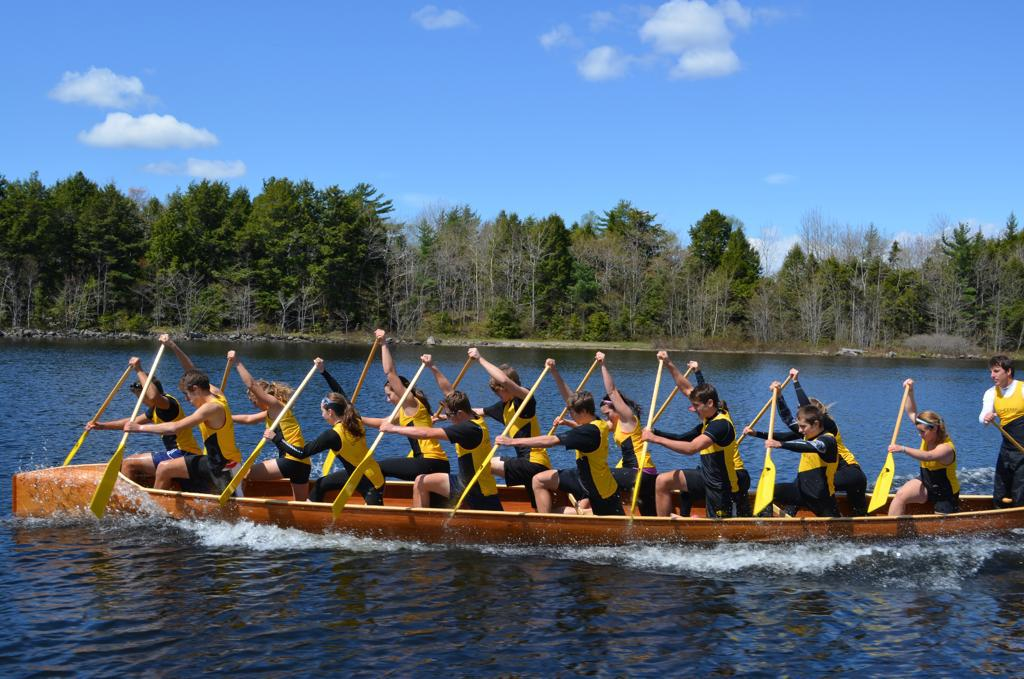face: (692, 397, 713, 418), (444, 404, 462, 424), (183, 384, 198, 407), (990, 367, 1007, 386), (136, 390, 153, 408), (494, 385, 512, 402), (570, 406, 586, 425), (797, 420, 812, 440), (601, 405, 617, 422), (386, 387, 400, 406), (917, 424, 930, 441), (252, 397, 266, 411), (321, 404, 332, 421)
